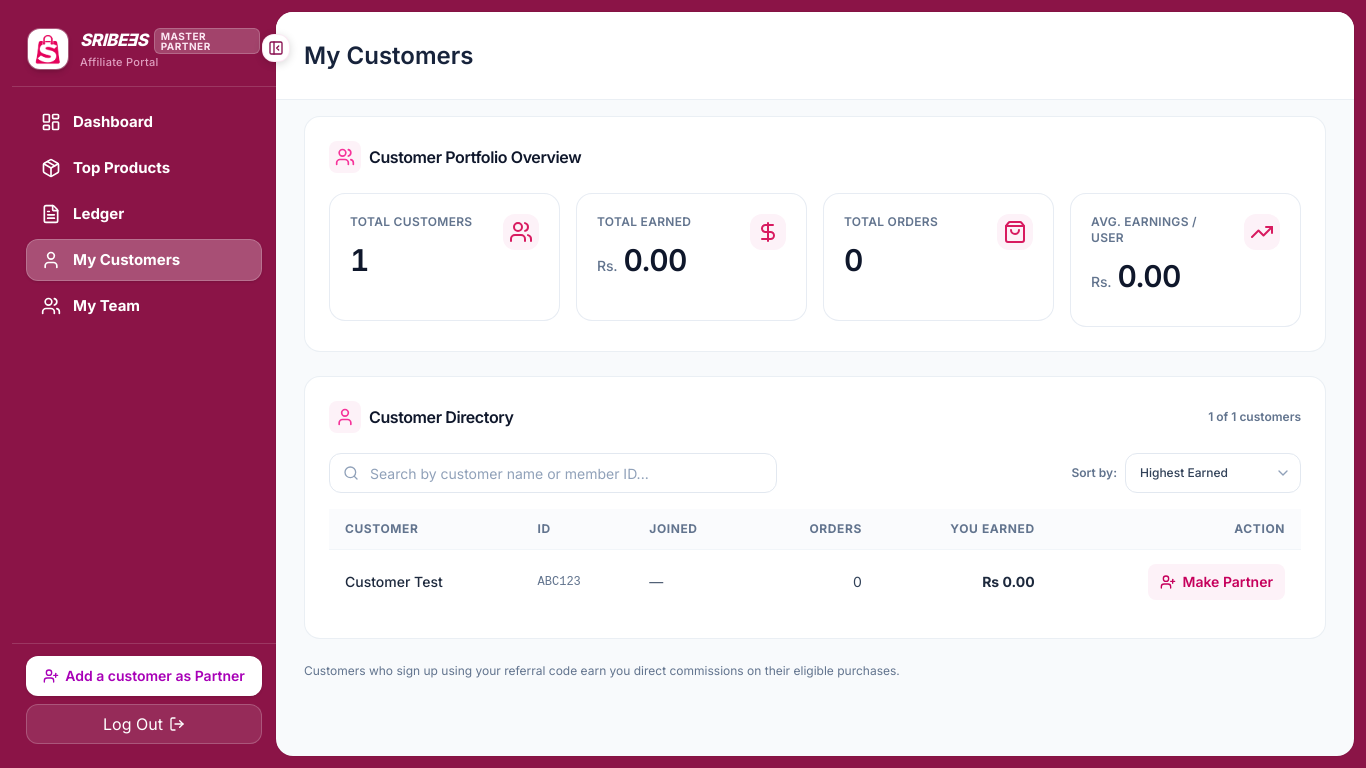
Scenario: customer invitation channels › reports SMS=false and email=true accurately
Click the button "Make Partner".
click(1217, 582)  # box [1148,564,1285,600]
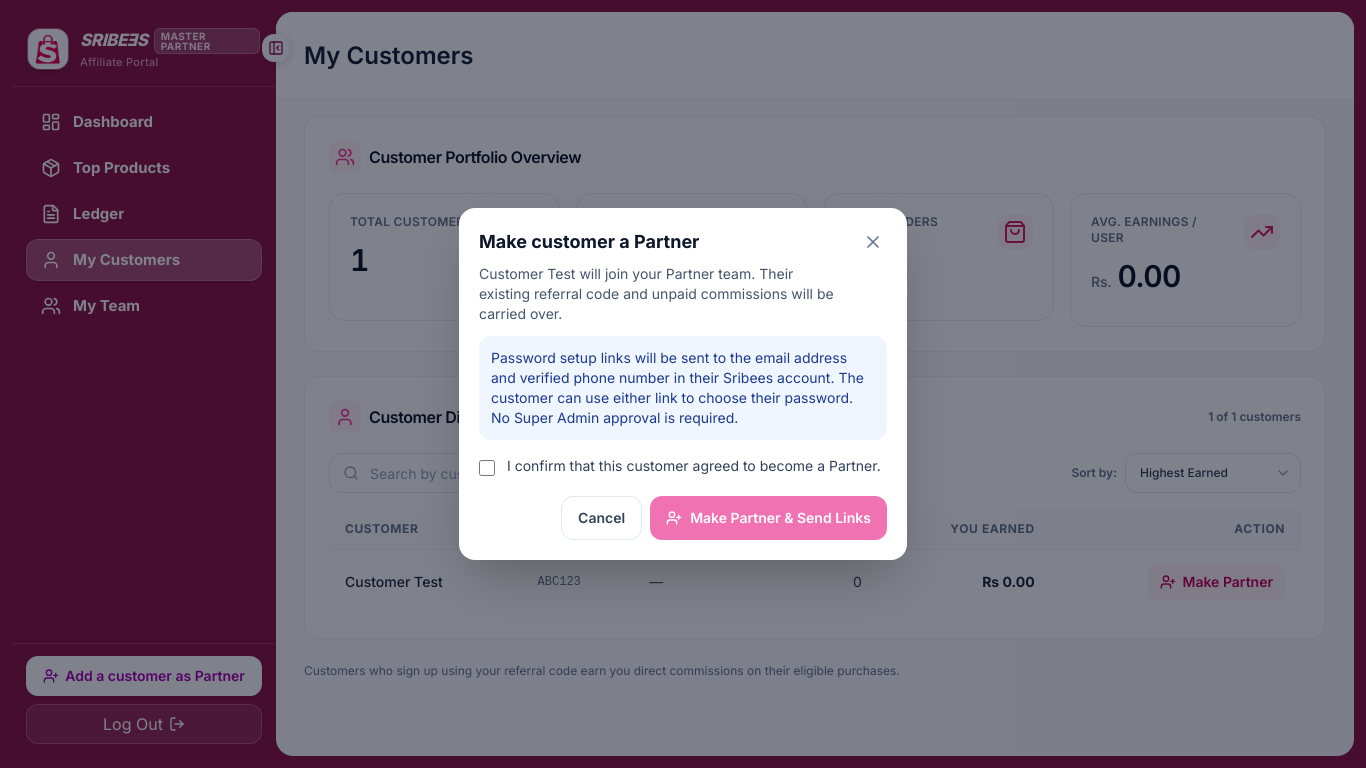
Click the checkbox.
click(487, 468)  # box [479,460,495,476]
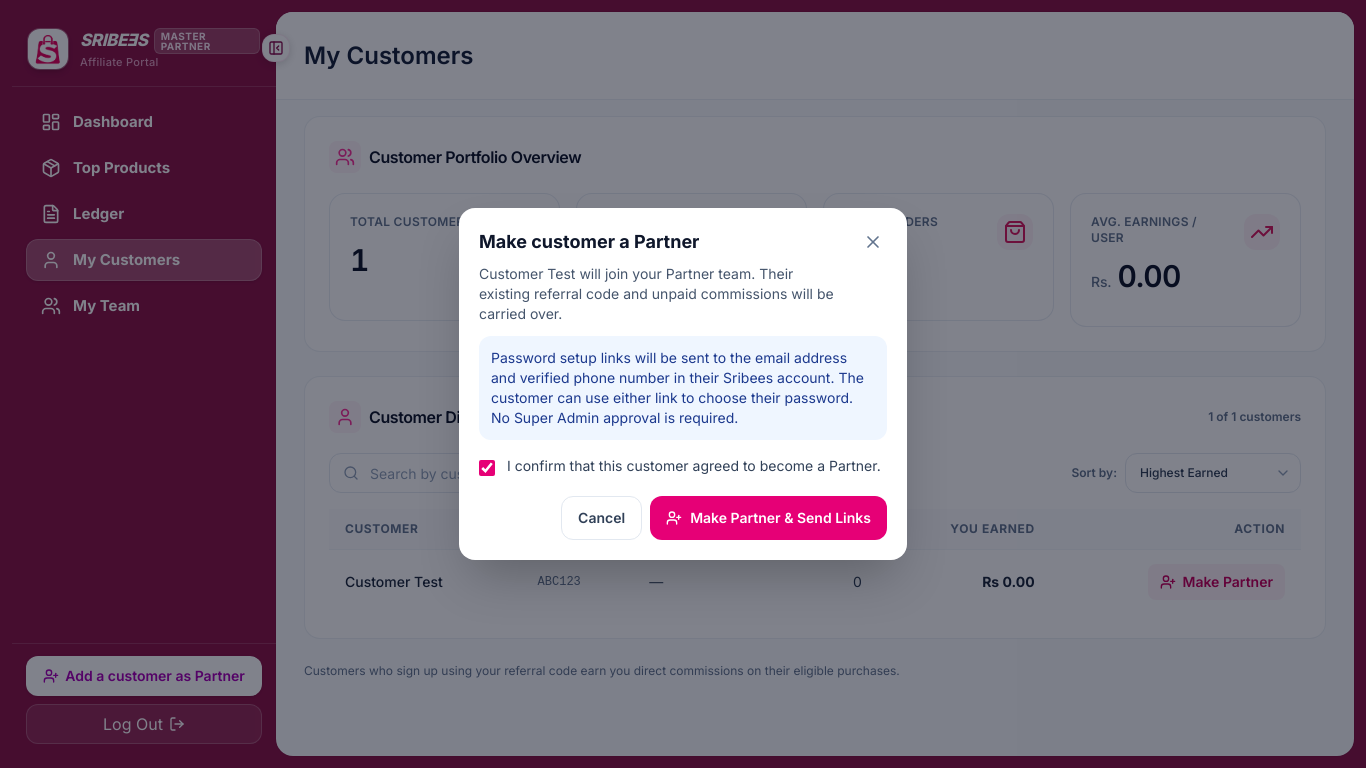
Click the button "Make Partner & Send Links".
click(769, 518)  # box [650,496,887,540]
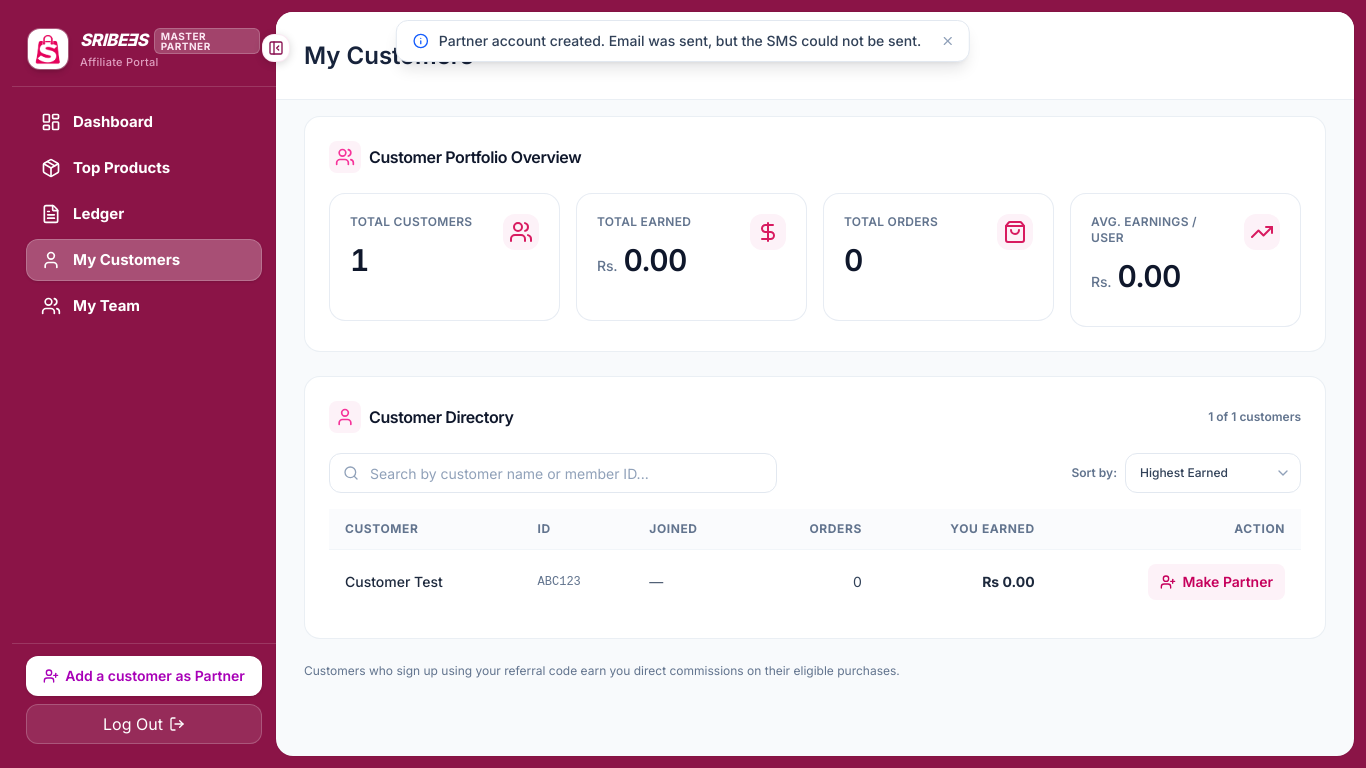
Expected: the text "Partner account created. Email was sent, but the SMS could not be sent." is shown, [439,31,921,51]
